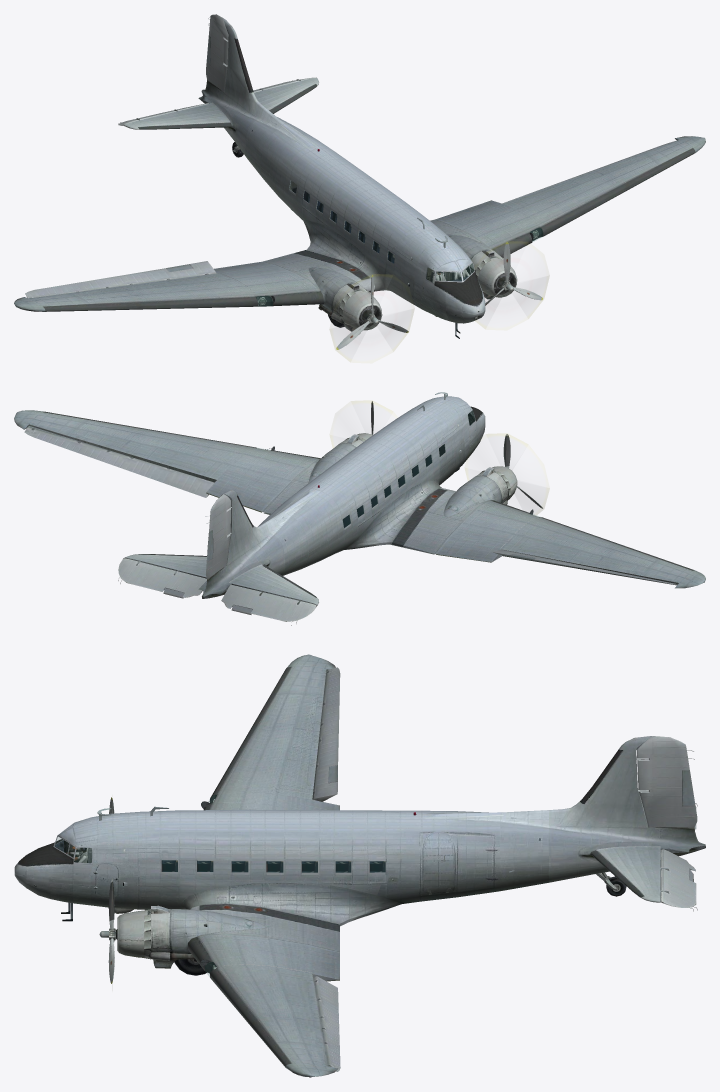
File: mcdonnell_douglas_dc-3.glb
The picture shows the model from 3 angles, top to bottom: view 1: azimuth 30°, elevation 25°; view 2: azimuth 150°, elevation 25°; view 3: azimuth 270°, elevation 25°; orthographic projection. The views are drawn at different scales.
Parts seen in each view (by area): view 1: Object_17, Object_19, Object_21, prop1_still_VC_53; view 2: Object_17, Object_21, Object_19; view 3: Object_17, Object_19, Object_21.
Boxes of the visible parts, bbox=[...] form: Object_17: bbox=[14, 14, 705, 338]; Object_19: bbox=[256, 181, 542, 306]; Object_21: bbox=[289, 180, 472, 282]; prop1_still_VC_53: bbox=[336, 275, 408, 349]; Object_17: bbox=[14, 392, 705, 625]; Object_21: bbox=[342, 410, 475, 527]; Object_19: bbox=[259, 411, 539, 527]; Object_17: bbox=[14, 654, 705, 1077]; Object_19: bbox=[55, 795, 385, 976]; Object_21: bbox=[54, 840, 385, 872].
Bounding box in the file's own units: 28.17 × 6.67 × 19.6.
6 materials, 4 textured.
